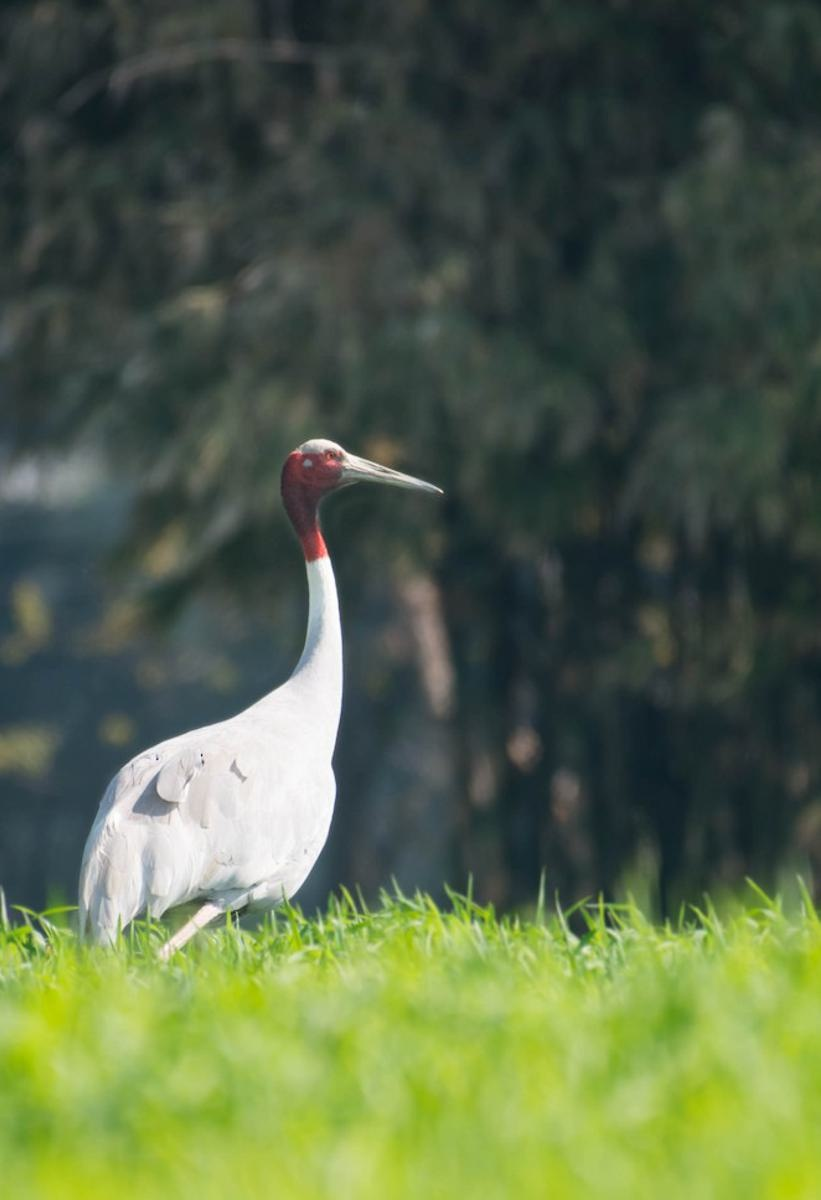crane: (25, 392, 476, 986)
